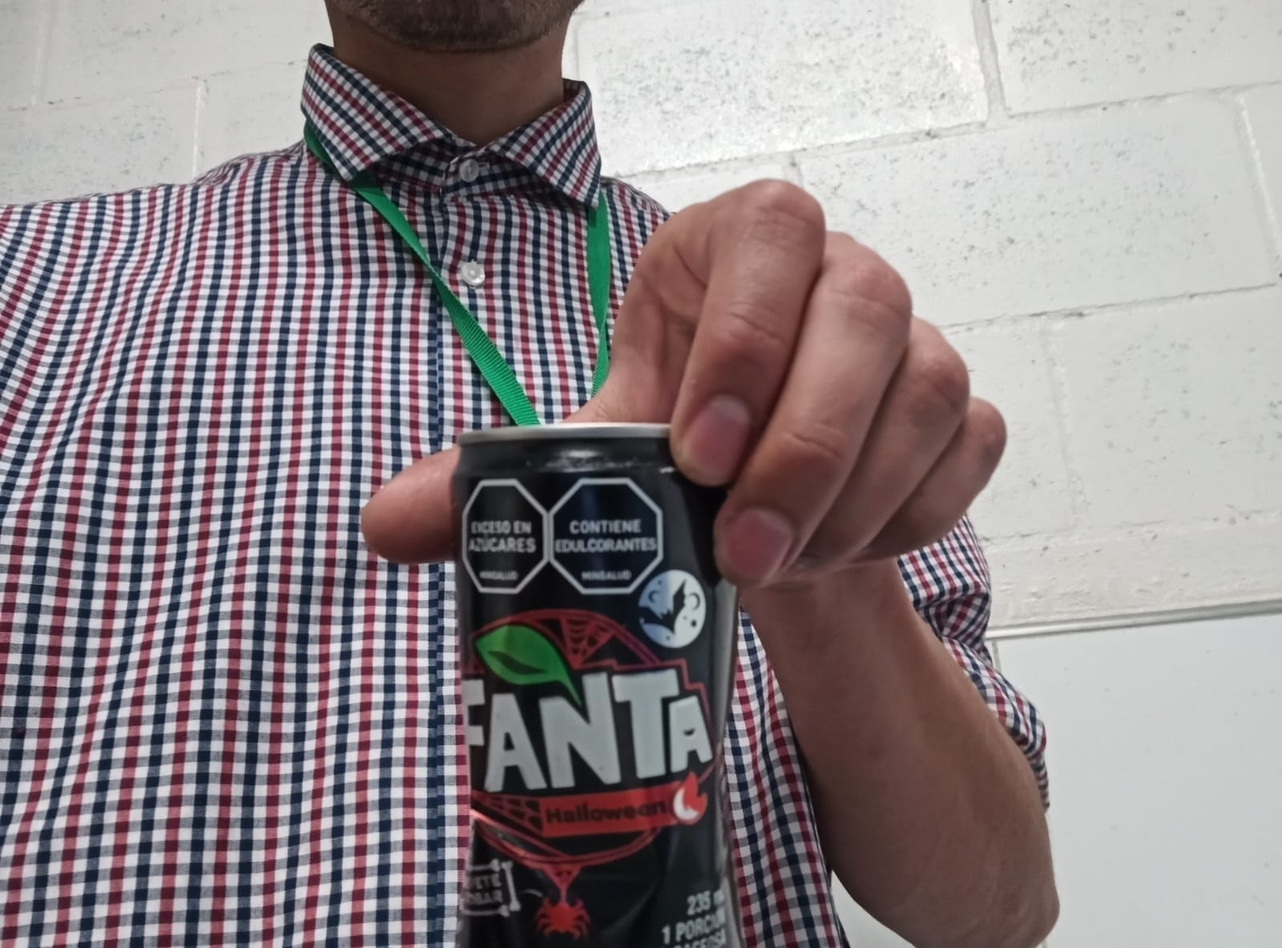Metal: (460, 427, 740, 948)
